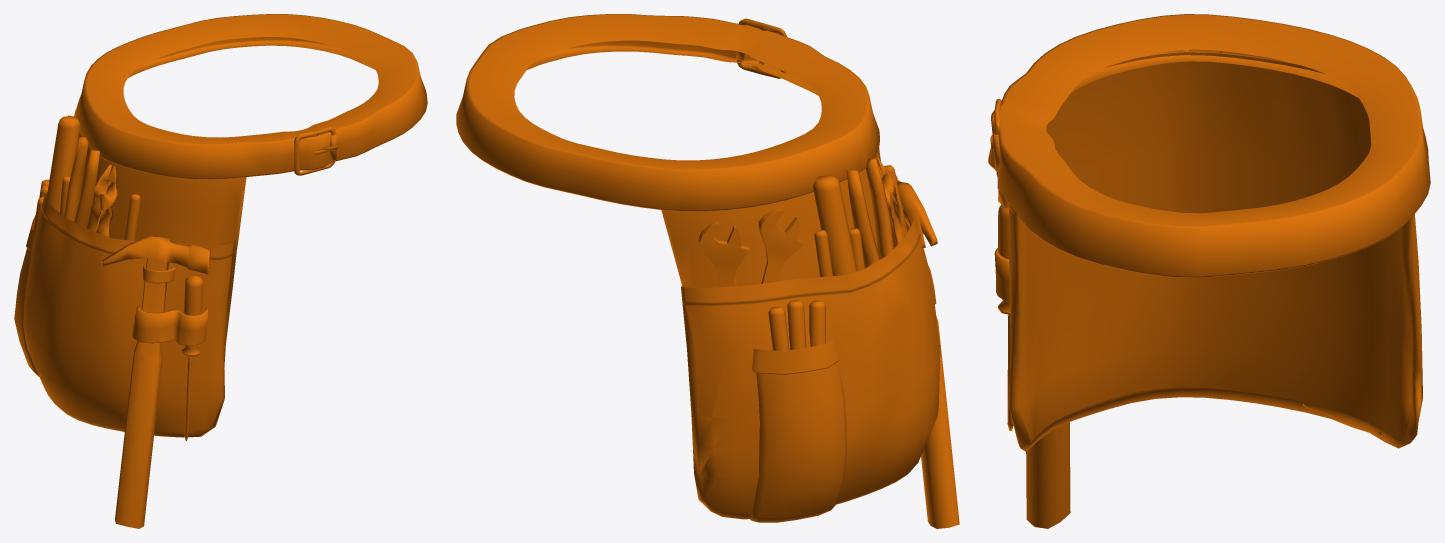
Rendered from coldremasc4.glb.
3 views of the same model, side by side, from view 1: azimuth 30°, elevation 25°; view 2: azimuth 150°, elevation 25°; view 3: azimuth 270°, elevation 25° (orthographic). The views are drawn at different scales.
Parts seen in each view (by area): view 1: hash_06463091.model; view 2: hash_06463091.model; view 3: hash_06463091.model.
Part boxes in pixels (box(x1,y1,x2,y2)): hash_06463091.model: box(14, 14, 427, 528); hash_06463091.model: box(456, 14, 959, 528); hash_06463091.model: box(988, 14, 1430, 528).
Size of the model in its own units: 0.4585 by 0.4356 by 0.3292.
